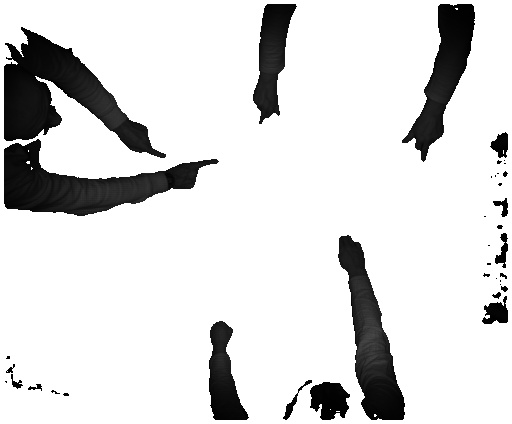fist: (208, 320, 239, 349)
hand: (400, 118, 447, 167), (174, 156, 223, 191), (124, 122, 168, 159), (248, 80, 279, 127), (336, 232, 367, 272)
